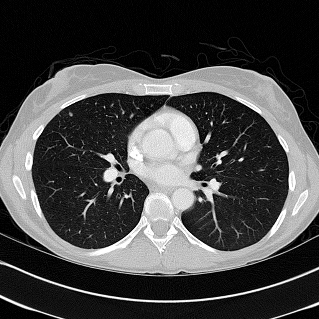nodule: (68, 112, 72, 116)
